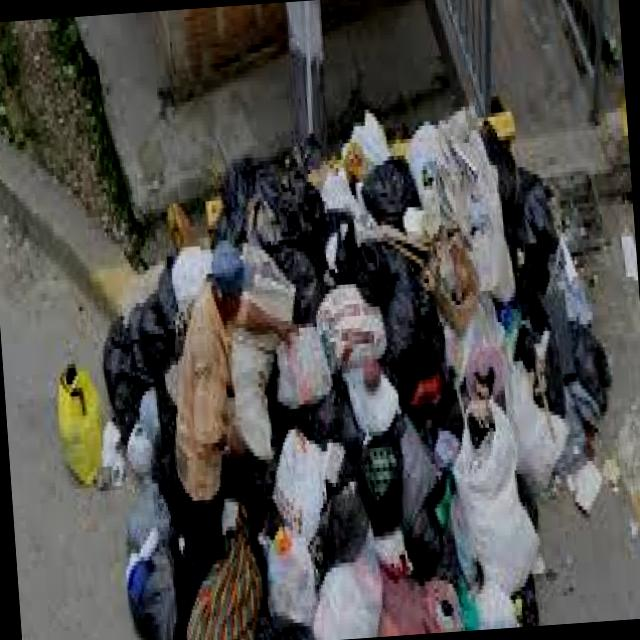garbage: (89, 111, 632, 640)
